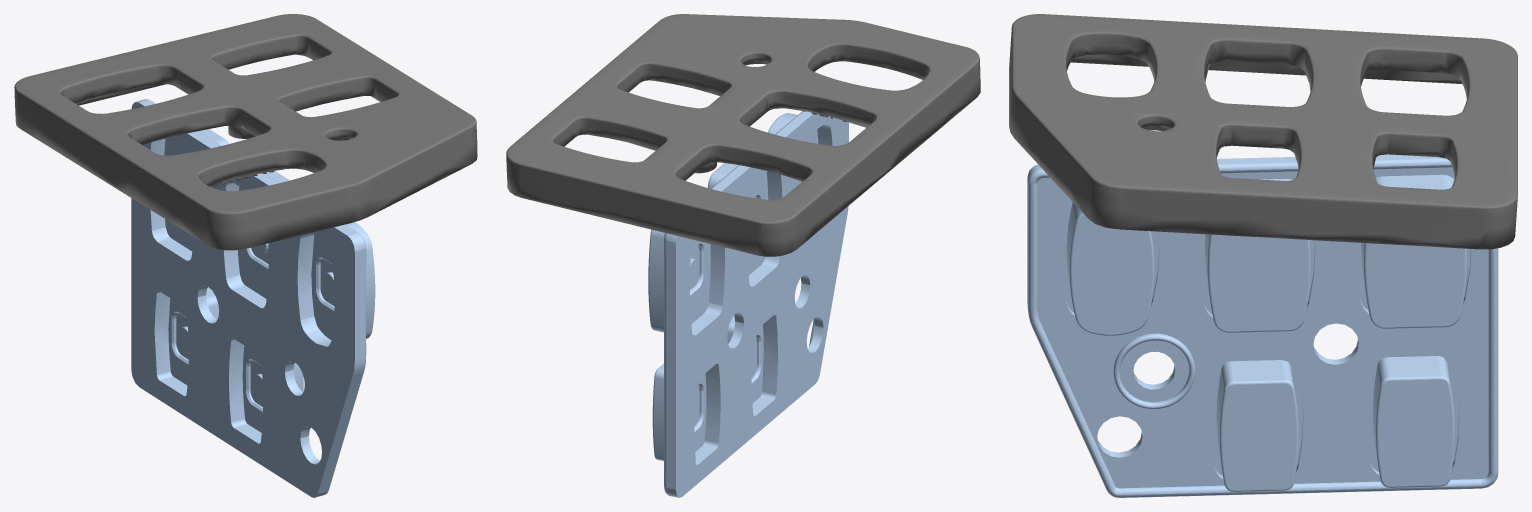
The model's file is animation.gltf.
The picture shows the model from 3 angles, left to right: view 1: azimuth 30°, elevation 25°; view 2: azimuth 150°, elevation 25°; view 3: azimuth 270°, elevation 25°; orthographic projection. The views are drawn at different scales.
Parts seen in each view (by area): view 1: AB, AJ; view 2: AB, AJ; view 3: AJ, AB.
Boxes of the visible parts, x1,y1,x2,y2 form: AB: [14, 14, 477, 250]; AJ: [131, 99, 375, 497]; AB: [506, 14, 980, 256]; AJ: [648, 111, 848, 497]; AJ: [1027, 154, 1498, 497]; AB: [1009, 14, 1517, 249].
Size of the model in its own units: 3.33 by 3.7 by 4.23.
